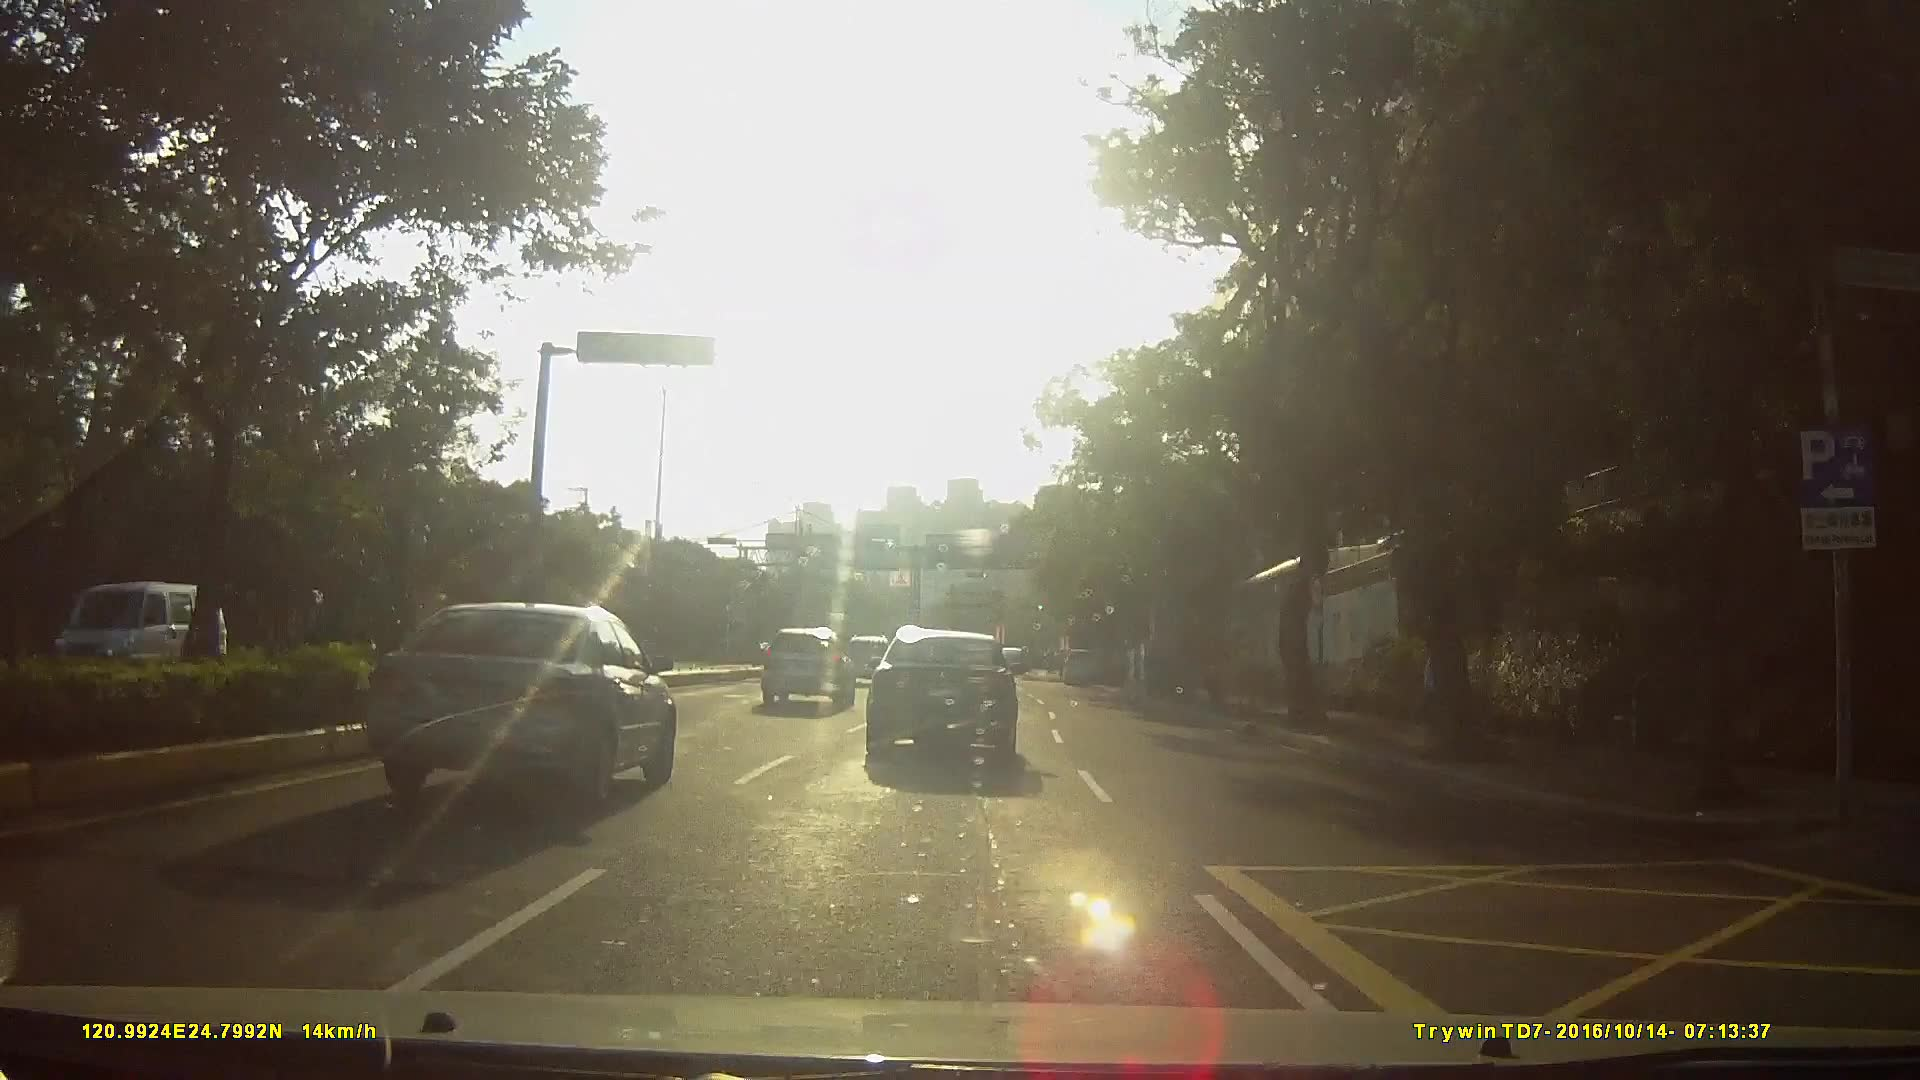vehicle: (369, 593, 676, 810), (866, 618, 1043, 765), (47, 580, 233, 702), (756, 621, 856, 709), (839, 625, 894, 682), (1064, 640, 1109, 680)
